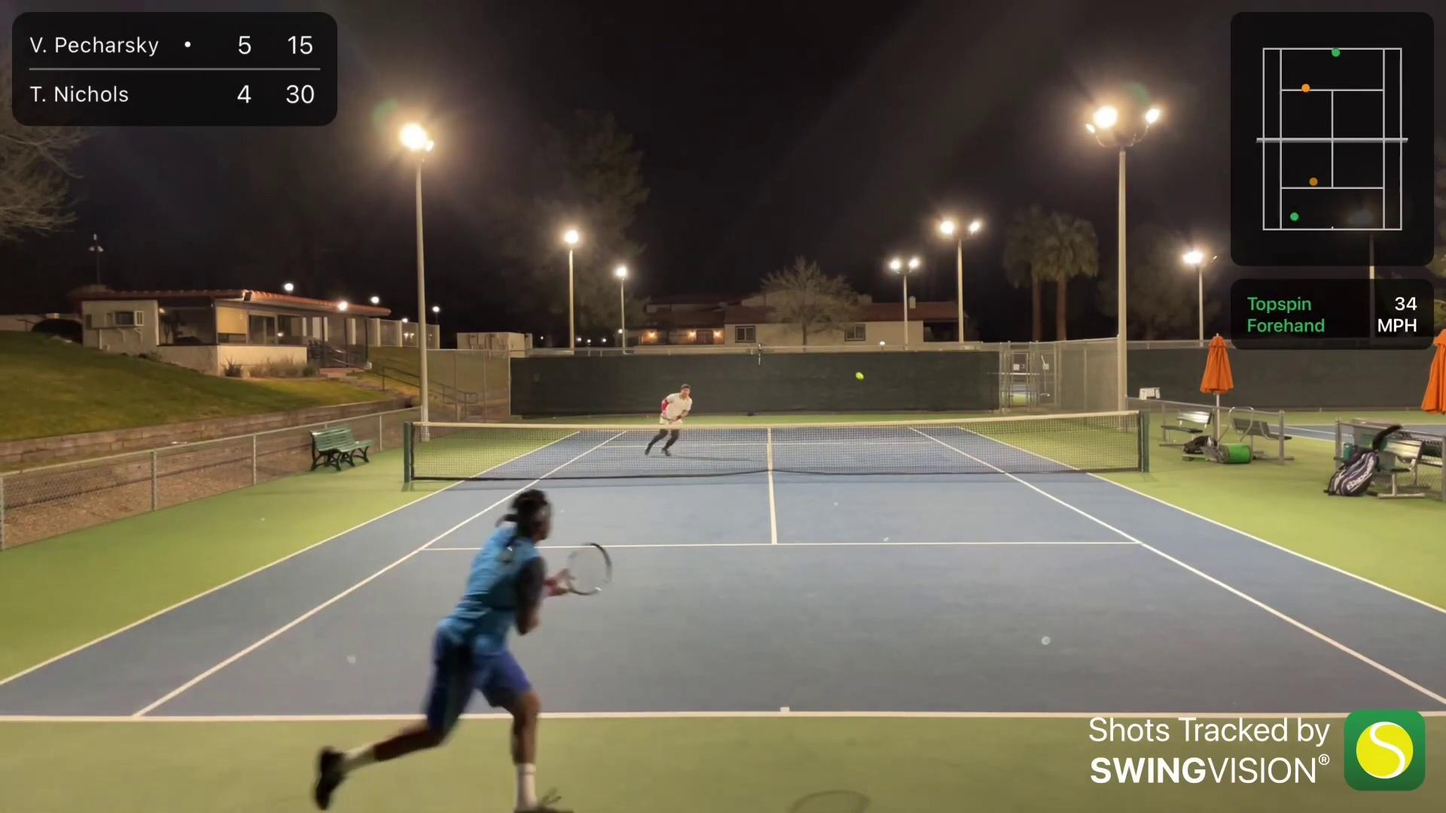ball: (859, 374, 865, 381)
